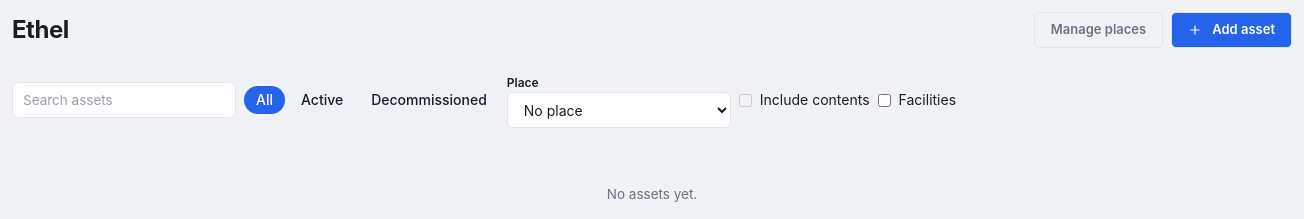
Test: EthelPage → server query contract › cannot send includeDescendants without a placeId - the toggle is disabled
The width and height of the screenshot is (1304, 219).
Expected: the checkbox labelled "Include contents" is disabled, [739,94,752,107]
Select "Kitchen" in the dropdown labelled "Place": coordinates (619, 110) [507,92,731,128]
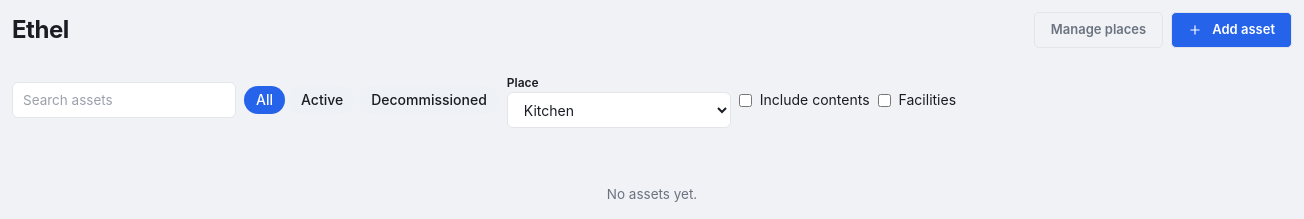
Expected: the checkbox labelled "Include contents" is enabled
Click the checkbox labelled "Include contents": coordinates (745, 100) [739,94,752,107]
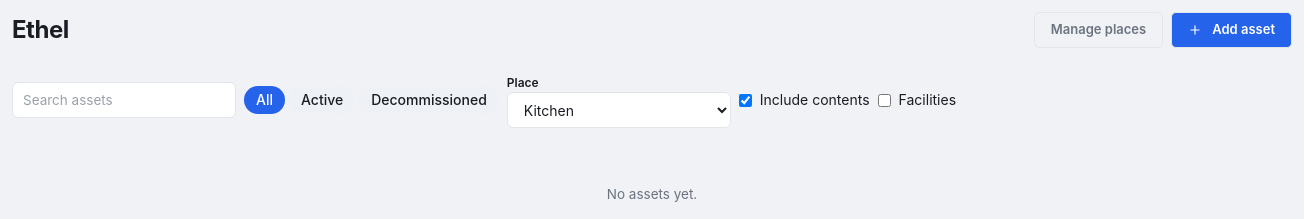
// Clearing the place must not leave includeDescendants behind.
Select "No place" in the dropdown labelled "Place": coordinates (619, 110) [507,92,731,128]
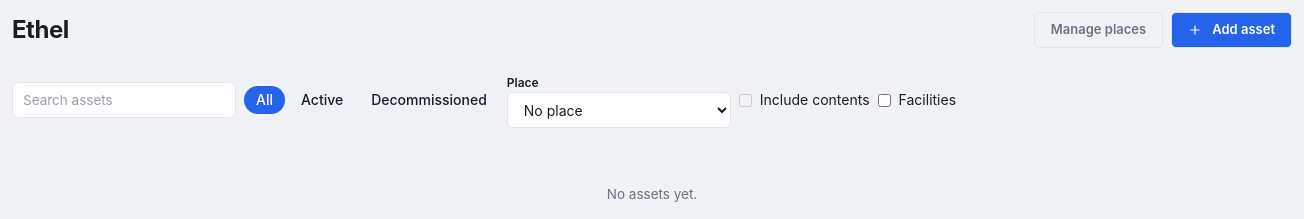
Expected: the checkbox labelled "Include contents" is disabled, [739,94,752,107]
